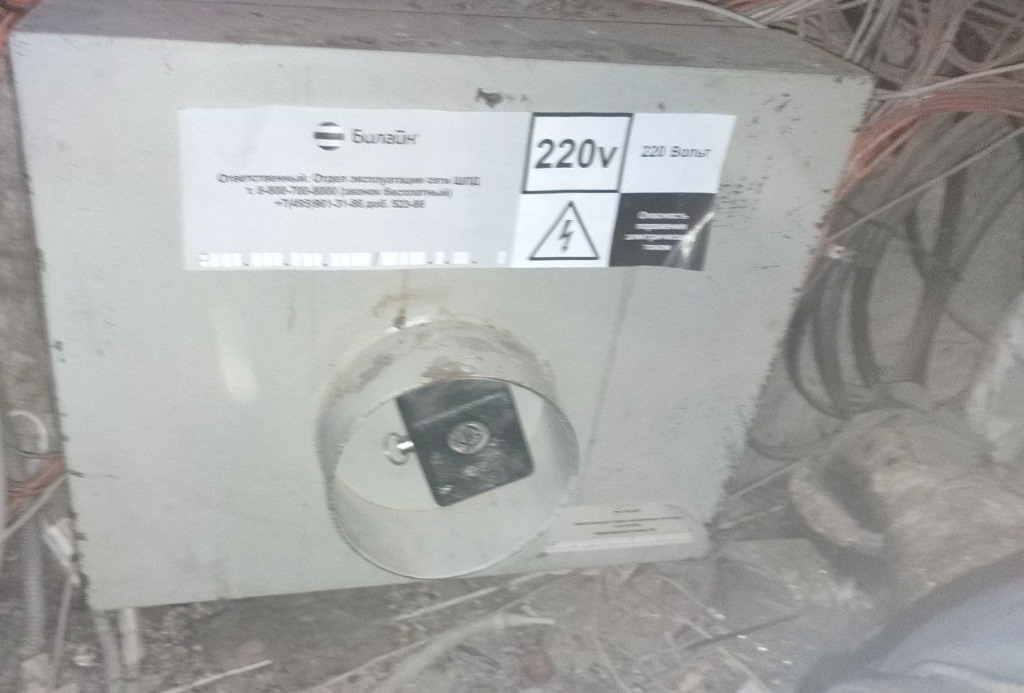shta-9: (7, 0, 875, 614)
